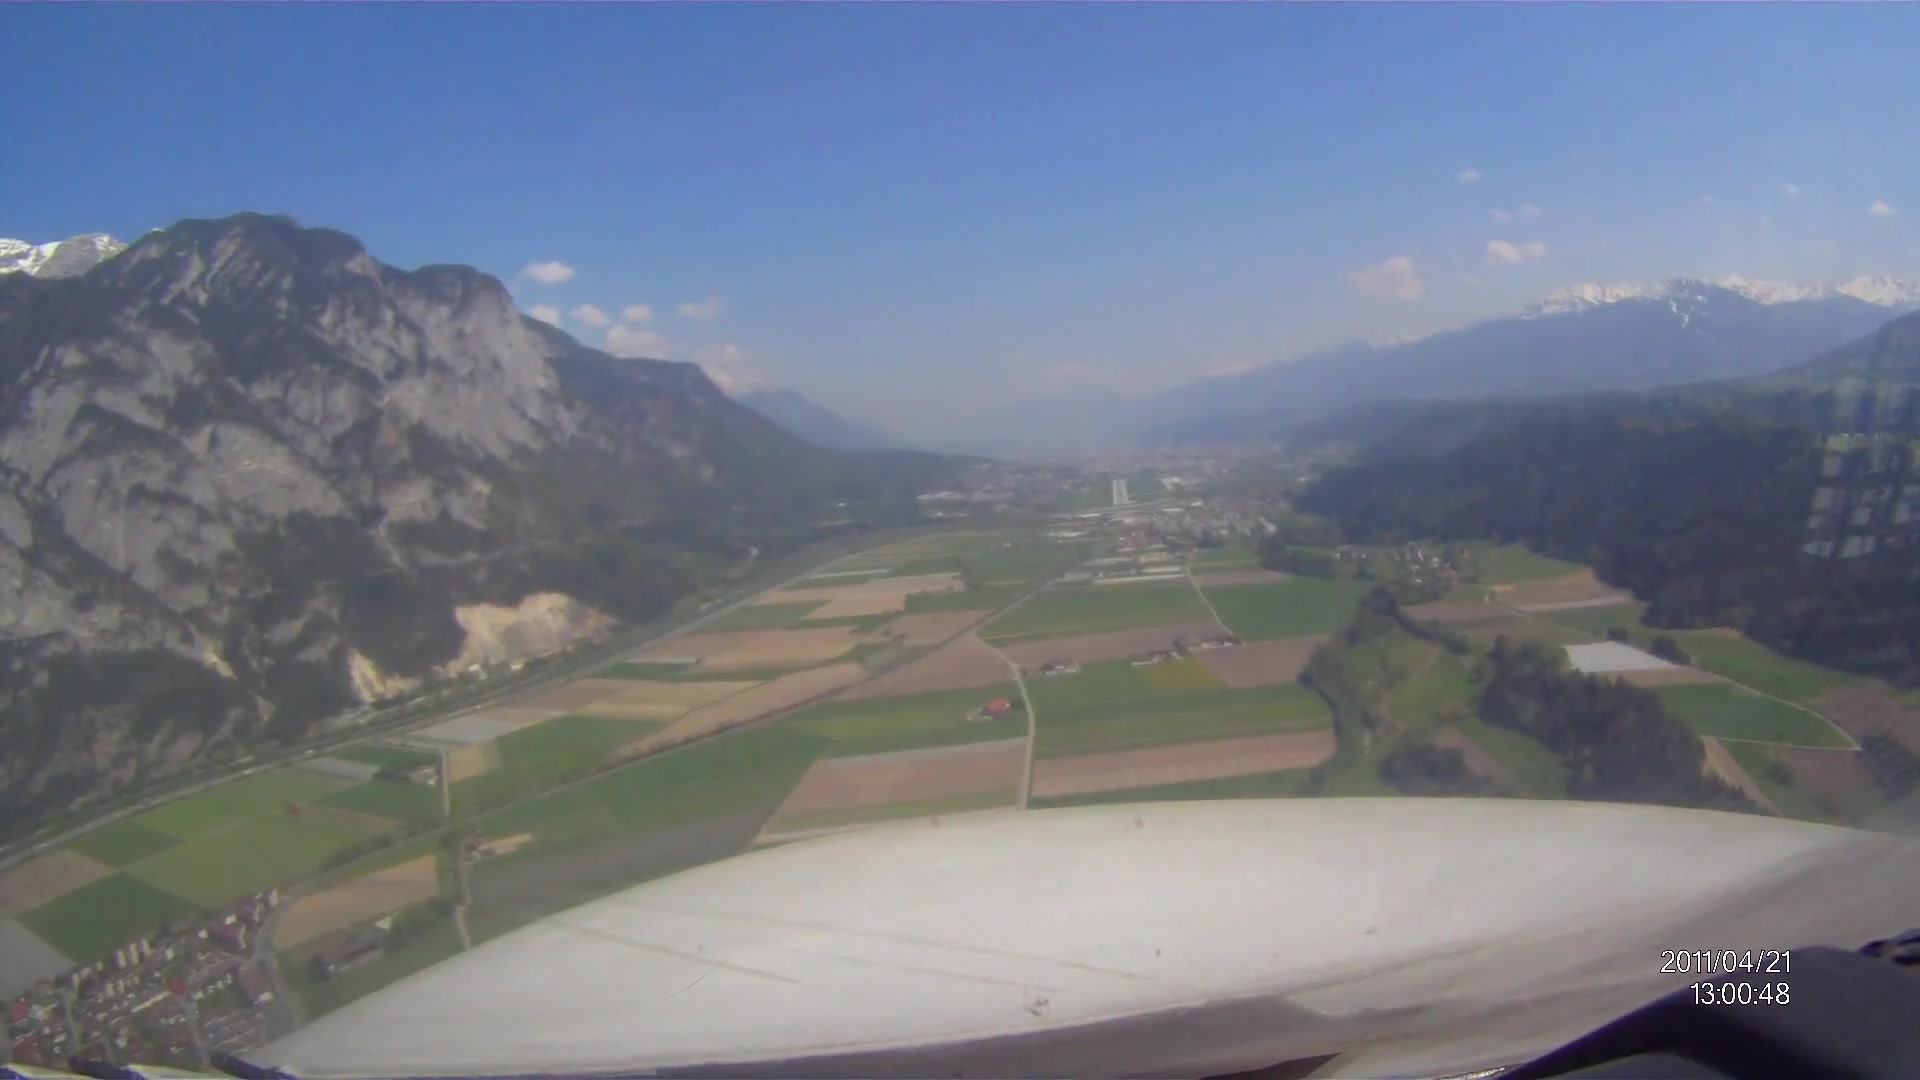runway: (1109, 477, 1131, 506)
